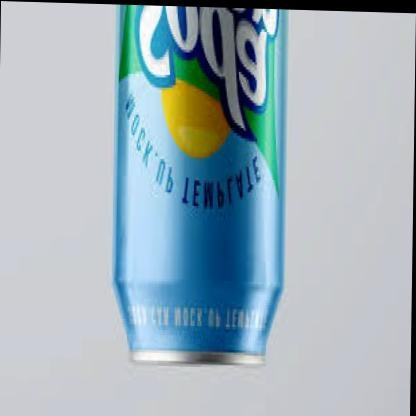trash: (114, 6, 285, 362)
